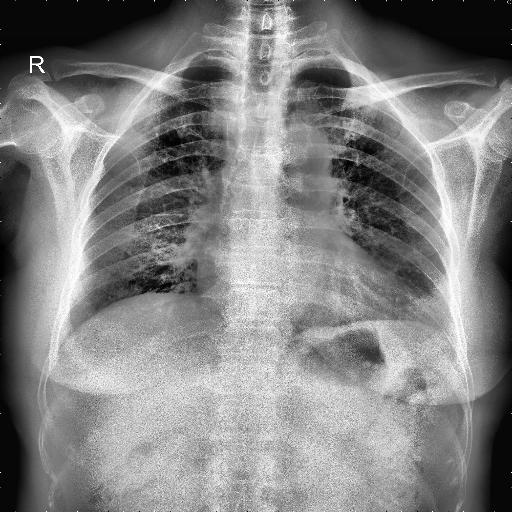0- Aortic enlargement: (268, 126, 333, 202), (280, 124, 332, 186), (284, 126, 332, 178)
3- Cardiomegaly: (194, 244, 420, 331), (197, 232, 412, 320), (196, 249, 410, 330)
